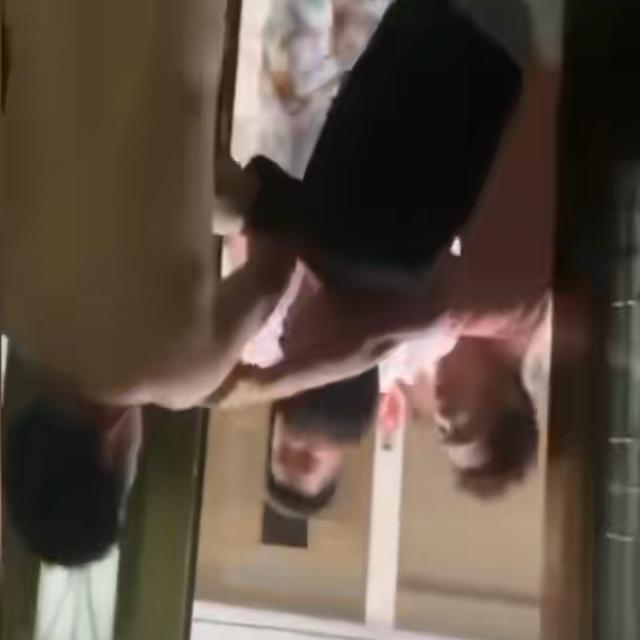fight: (238, 239, 549, 495)
